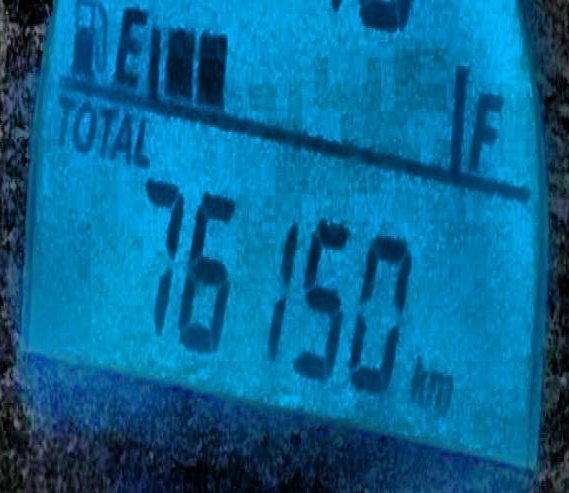0: (353, 232, 404, 394)
1: (263, 208, 294, 388)
5: (301, 210, 344, 385)
6: (181, 178, 235, 354)
7: (140, 168, 179, 335)
X: (469, 78, 502, 175), (115, 3, 147, 90), (73, 93, 95, 158), (133, 109, 156, 168), (427, 366, 455, 413), (98, 97, 117, 163), (112, 104, 133, 163), (407, 352, 427, 413), (56, 87, 75, 146)
